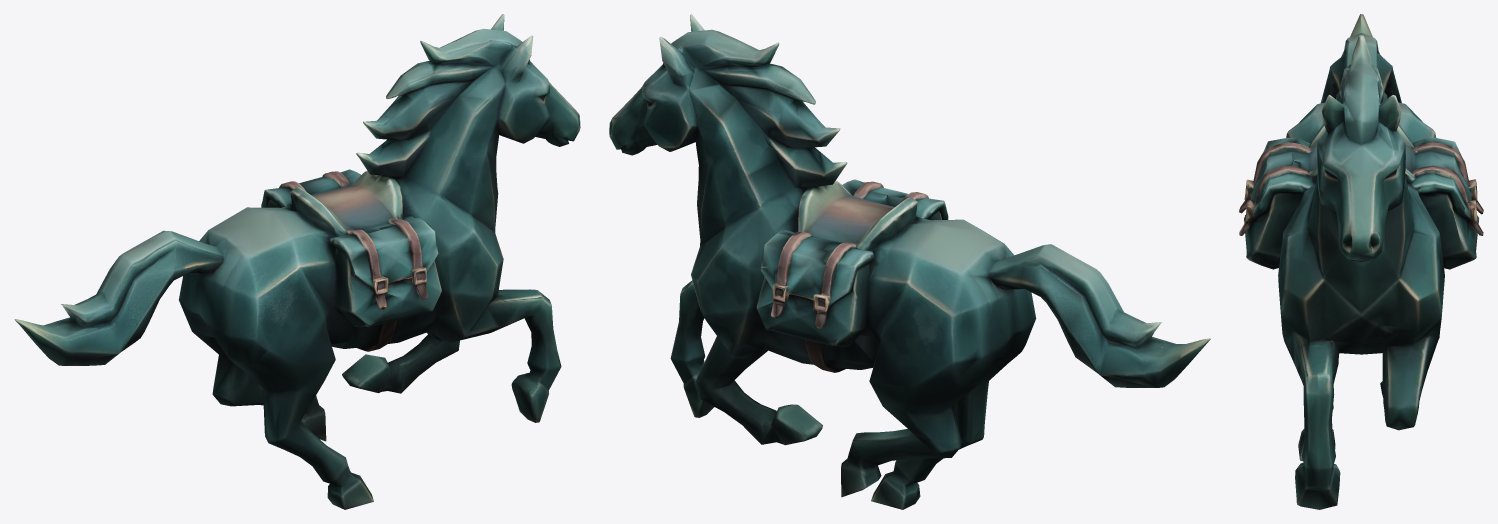
File: ss_yima.glb
3 renders of one model, left to right at view 1: azimuth 30°, elevation 25°; view 2: azimuth 150°, elevation 25°; view 3: azimuth 270°, elevation 25°, orthographic. The views are drawn at different scales.
Visible parts, largest first — view 1: tripo_node_049c1df2-955f-4443-9898-7acde489ae1c; view 2: tripo_node_049c1df2-955f-4443-9898-7acde489ae1c; view 3: tripo_node_049c1df2-955f-4443-9898-7acde489ae1c.
Boxes of the visible parts, x1,y1,x2,y2 form: tripo_node_049c1df2-955f-4443-9898-7acde489ae1c: (14, 14, 580, 509); tripo_node_049c1df2-955f-4443-9898-7acde489ae1c: (609, 14, 1210, 509); tripo_node_049c1df2-955f-4443-9898-7acde489ae1c: (1239, 14, 1483, 509).
Bounding box in the file's own units: 0.9989 × 0.7169 × 0.3406.
Materials: 1 (1 with a texture image).
